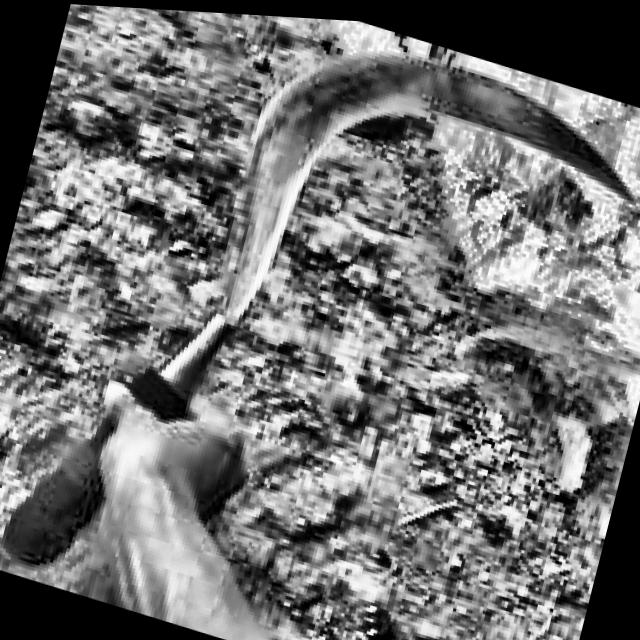celurit: (3, 44, 640, 568)
